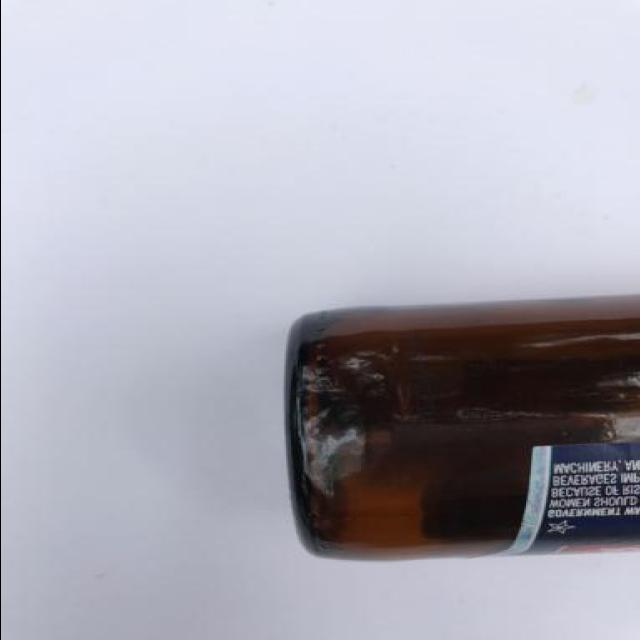glass: (285, 291, 640, 560)
